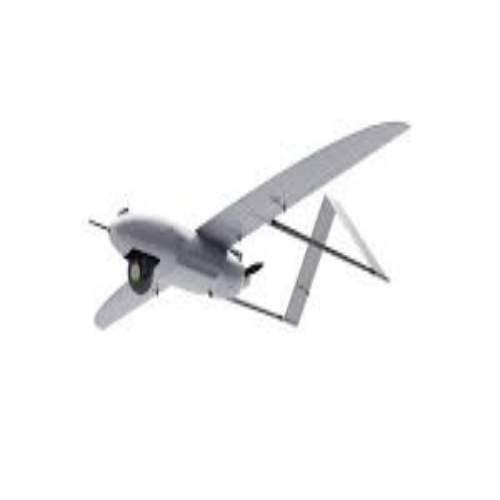uav551: (90, 117, 409, 345)
